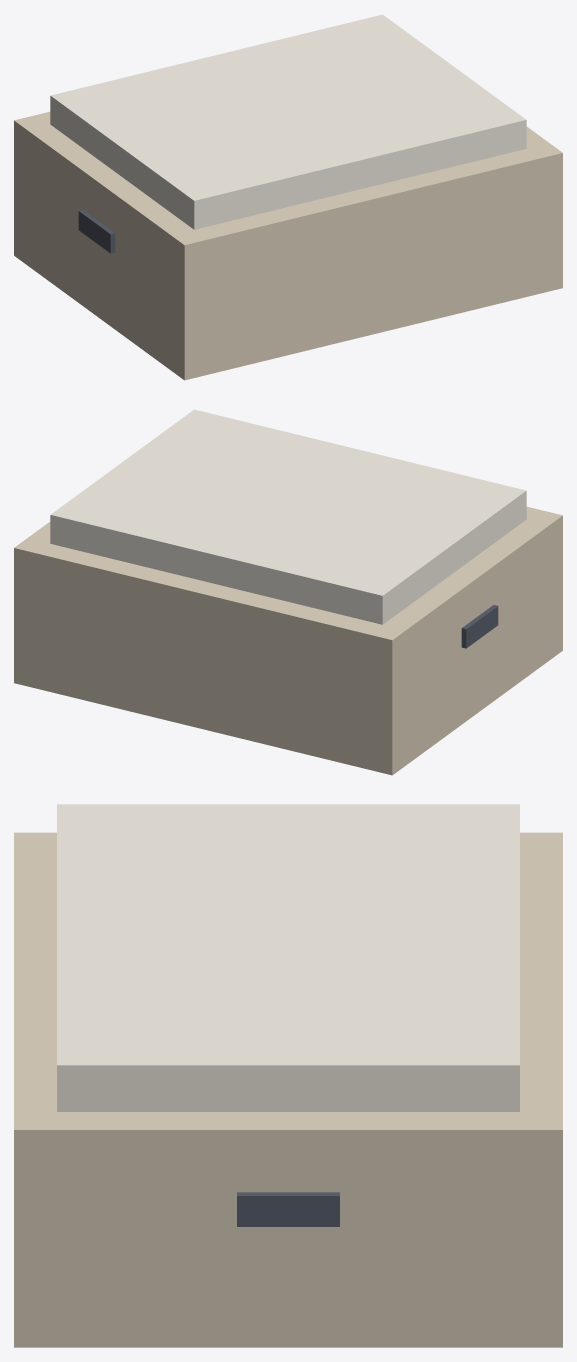
File: SV_MTO_SKU_04_v01.glb
3 views of the same model, one above another, from view 1: azimuth 30°, elevation 25°; view 2: azimuth 150°, elevation 25°; view 3: azimuth 270°, elevation 25° (orthographic). The views are drawn at different scales.
Parts seen in each view (by area): view 1: SV_MTO_SKU_04_v01; view 2: SV_MTO_SKU_04_v01; view 3: SV_MTO_SKU_04_v01.
Part boxes in pixels (box(x1,y1,x2,y2)): SV_MTO_SKU_04_v01: box(14, 14, 562, 380); SV_MTO_SKU_04_v01: box(14, 409, 562, 775); SV_MTO_SKU_04_v01: box(14, 804, 562, 1347).
Bounding box in the file's own units: 0.168 × 0.068 × 0.128.
